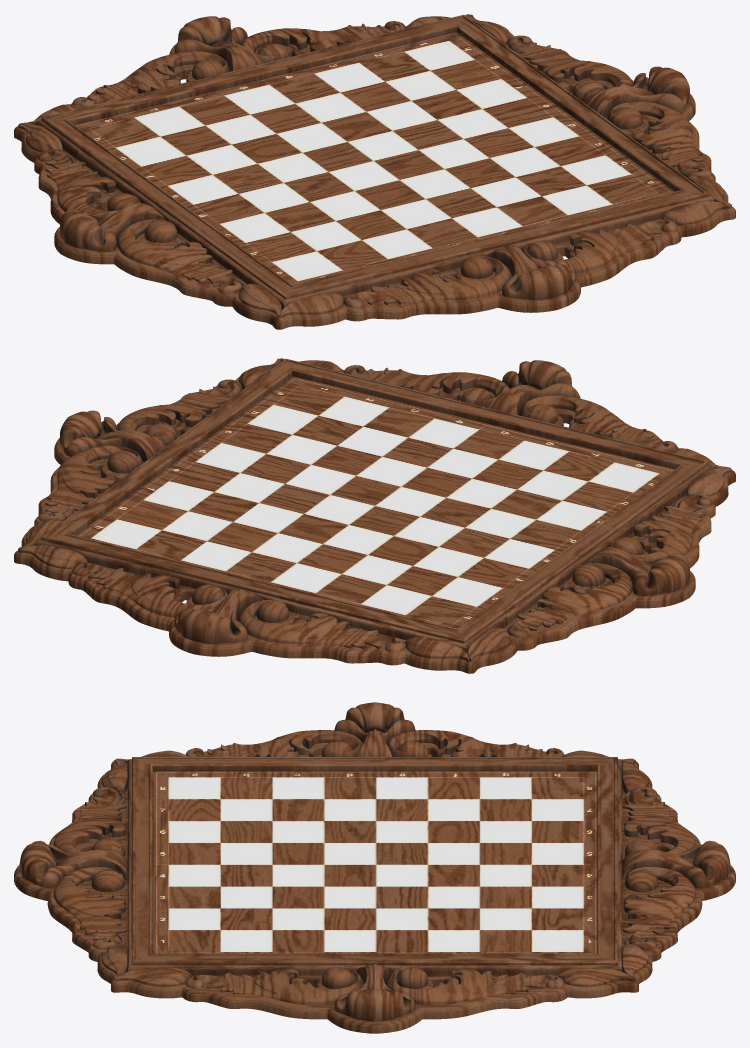
File: obj_chess_f004f7.glb
3 renders of one model, top to bottom at view 1: azimuth 30°, elevation 25°; view 2: azimuth 150°, elevation 25°; view 3: azimuth 270°, elevation 25°, orthographic.
Parts seen in each view (by area): view 1: obj_chess_f004f7; view 2: obj_chess_f004f7; view 3: obj_chess_f004f7.
Part boxes in pixels (bbox=[...]): obj_chess_f004f7: bbox=[14, 14, 735, 329]; obj_chess_f004f7: bbox=[14, 358, 735, 673]; obj_chess_f004f7: bbox=[14, 702, 735, 1033].
Size of the model in its own units: 0.4 by 0.0203 by 0.4.
Materials: 1 (1 with a texture image).
